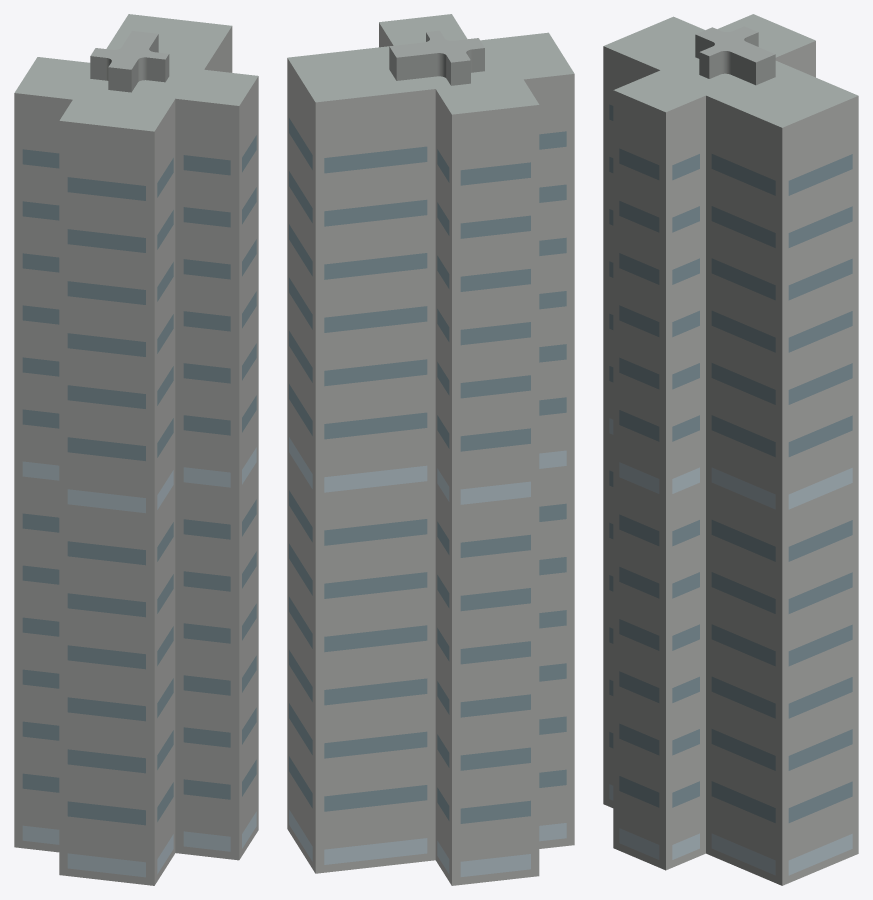
File: apt-a13780001.glb
The picture shows the model from 3 angles, left to right: view 1: azimuth 30°, elevation 25°; view 2: azimuth 150°, elevation 25°; view 3: azimuth 270°, elevation 25°; orthographic projection. The views are drawn at different scales.
Visible parts, largest first — view 1: apt-a13780001; view 2: apt-a13780001; view 3: apt-a13780001.
Boxes of the visible parts, x1,y1,x2,y2 form: apt-a13780001: (14,14,258,885); apt-a13780001: (287,14,574,885); apt-a13780001: (603,14,858,885).
Size of the model in its own units: 25.65 by 82 by 24.29.
